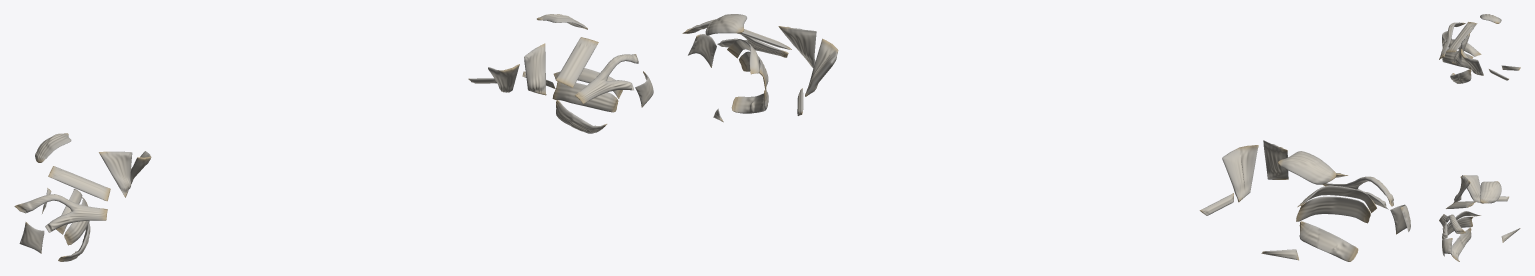
The model's file is shoulder-ligaments-fiber.glb.
3 views of the same model, side by side, from view 1: azimuth 30°, elevation 25°; view 2: azimuth 150°, elevation 25°; view 3: azimuth 270°, elevation 25° (orthographic). The views are drawn at different scales.
Visible parts, largest first — view 1: z_lig_coracohumeral_ligament_R, z_lig_coracohumeral_ligament_L, z_lig_coraco_acromial_ligament_L, z_lig_middle_glenohumeral_ligament_L, z_lig_trapezoid_ligament_L, z_lig_trapezoid_ligament_R, z_lig_coraco_acromial_ligament_R, z_lig_inferior_glenohumeral_ligament_L, z_lig_acromioclavicular_ligament_R, z_lig_conoid_ligament_L, z_lig_transverse_humeral_ligament_R, z_lig_middle_glenohumeral_ligament_R; view 2: z_lig_middle_glenohumeral_ligament_R, z_lig_conoid_ligament_R, z_lig_inferior_glenohumeral_ligament_R, z_lig_acromioclavicular_ligament_R, z_lig_conoid_ligament_L, z_lig_trapezoid_ligament_L, z_lig_trapezoid_ligament_R, z_lig_superior_glenohumeral_ligament_R, z_lig_acromioclavicular_ligament_L, z_lig_coracohumeral_ligament_L, z_lig_inferior_glenohumeral_ligament_L, z_lig_coracohumeral_ligament_R (+3 smaller); view 3: z_lig_acromioclavicular_ligament_L, z_lig_coraco_acromial_ligament_R, z_lig_inferior_glenohumeral_ligament_L, z_lig_conoid_ligament_L, z_lig_coracohumeral_ligament_L, z_lig_coracohumeral_ligament_R, z_lig_middle_glenohumeral_ligament_R, z_lig_conoid_ligament_R, z_lig_inferior_glenohumeral_ligament_R, z_lig_middle_glenohumeral_ligament_L, z_lig_trapezoid_ligament_R, z_lig_trapezoid_ligament_L (+9 smaller).
Boxes of the visible parts, x1=… form: z_lig_coracohumeral_ligament_R: x1=14, y1=194, x2=107, y2=232; z_lig_coracohumeral_ligament_L: x1=574, y1=54, x2=638, y2=103; z_lig_coraco_acromial_ligament_L: x1=556, y1=37, x2=598, y2=87; z_lig_middle_glenohumeral_ligament_L: x1=552, y1=81, x2=618, y2=112; z_lig_trapezoid_ligament_L: x1=524, y1=43, x2=546, y2=95; z_lig_trapezoid_ligament_R: x1=99, y1=151, x2=132, y2=197; z_lig_coraco_acromial_ligament_R: x1=48, y1=166, x2=110, y2=201; z_lig_inferior_glenohumeral_ligament_L: x1=556, y1=100, x2=606, y2=133; z_lig_acromioclavicular_ligament_R: x1=35, y1=133, x2=71, y2=162; z_lig_conoid_ligament_L: x1=488, y1=64, x2=519, y2=92; z_lig_transverse_humeral_ligament_R: x1=19, y1=222, x2=44, y2=253; z_lig_middle_glenohumeral_ligament_R: x1=64, y1=197, x2=89, y2=245; z_lig_middle_glenohumeral_ligament_R: x1=1296, y1=196, x2=1370, y2=223; z_lig_conoid_ligament_R: x1=1222, y1=145, x2=1258, y2=202; z_lig_inferior_glenohumeral_ligament_R: x1=1299, y1=221, x2=1358, y2=261; z_lig_acromioclavicular_ligament_R: x1=1278, y1=151, x2=1336, y2=184; z_lig_conoid_ligament_L: x1=805, y1=38, x2=838, y2=96; z_lig_trapezoid_ligament_L: x1=778, y1=26, x2=816, y2=67; z_lig_trapezoid_ligament_R: x1=1263, y1=140, x2=1288, y2=179; z_lig_superior_glenohumeral_ligament_R: x1=1297, y1=185, x2=1376, y2=212; z_lig_acromioclavicular_ligament_L: x1=705, y1=14, x2=746, y2=35; z_lig_coracohumeral_ligament_L: x1=682, y1=19, x2=788, y2=57; z_lig_inferior_glenohumeral_ligament_L: x1=731, y1=90, x2=768, y2=113; z_lig_coracohumeral_ligament_R: x1=1322, y1=176, x2=1393, y2=209; z_lig_acromioclavicular_ligament_L: x1=1480, y1=181, x2=1501, y2=203; z_lig_coraco_acromial_ligament_R: x1=1446, y1=22, x2=1477, y2=52; z_lig_inferior_glenohumeral_ligament_L: x1=1451, y1=227, x2=1471, y2=261; z_lig_conoid_ligament_L: x1=1460, y1=175, x2=1483, y2=203; z_lig_coracohumeral_ligament_L: x1=1439, y1=214, x2=1465, y2=238; z_lig_coracohumeral_ligament_R: x1=1439, y1=22, x2=1465, y2=59; z_lig_middle_glenohumeral_ligament_R: x1=1442, y1=51, x2=1473, y2=69; z_lig_conoid_ligament_R: x1=1460, y1=48, x2=1483, y2=75; z_lig_inferior_glenohumeral_ligament_R: x1=1450, y1=69, x2=1471, y2=83; z_lig_middle_glenohumeral_ligament_L: x1=1442, y1=216, x2=1473, y2=239; z_lig_trapezoid_ligament_R: x1=1452, y1=32, x2=1470, y2=65; z_lig_trapezoid_ligament_L: x1=1453, y1=175, x2=1470, y2=202.
Bounding box in the file's own units: 0.3752 × 0.0591 × 0.0609.
